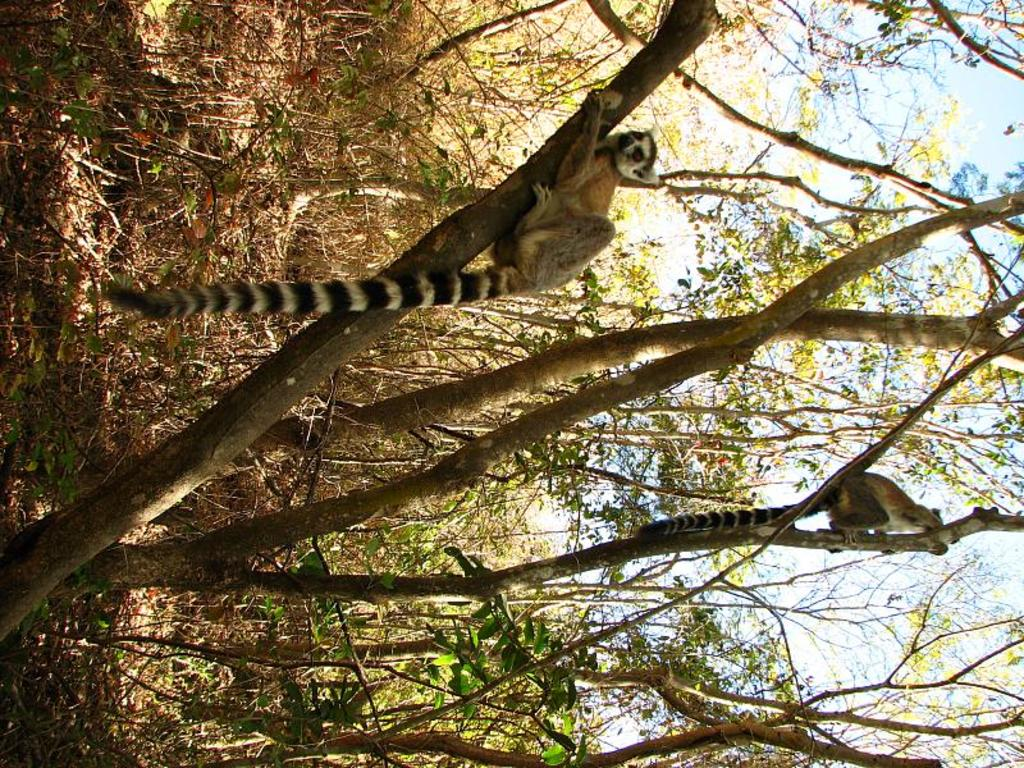Animal: (101, 85, 663, 310), (630, 467, 943, 531)
